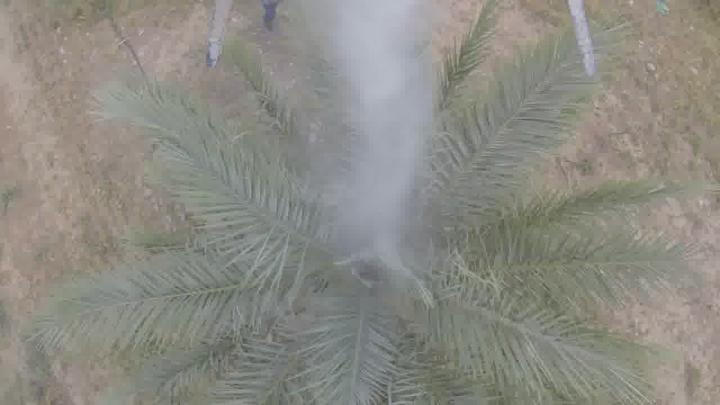Date-Palm-Crown: (189, 100, 556, 404)
